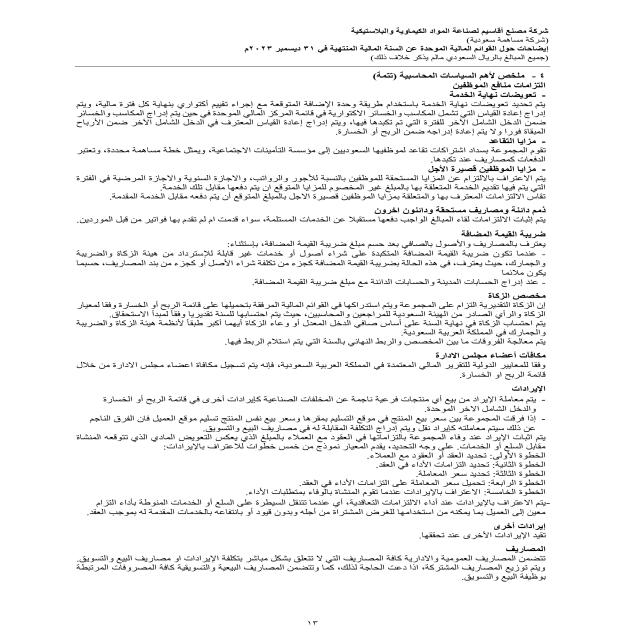notes: (446, 42, 554, 54)
text: (42, 66, 558, 593)
